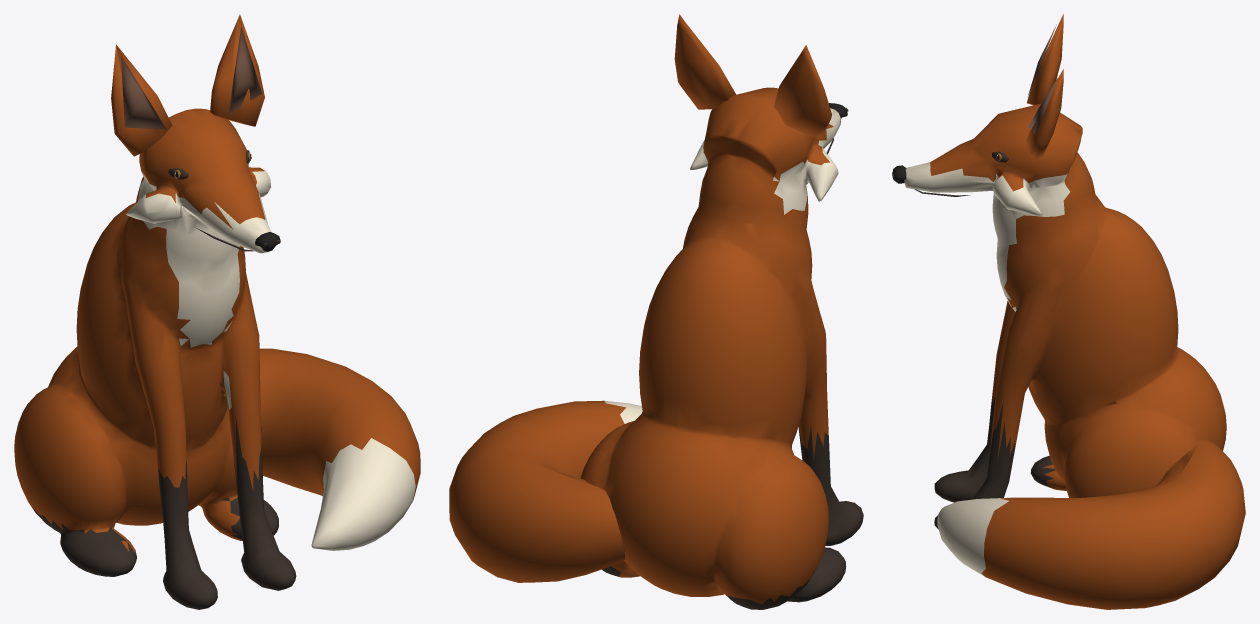
File: SM_Fox_LOD0.fbx
3 views of the same model, side by side, from view 1: azimuth 30°, elevation 25°; view 2: azimuth 150°, elevation 25°; view 3: azimuth 270°, elevation 25° (orthographic). The views are drawn at different scales.
Parts seen in each view (by area): view 1: SM_Fox_LOD0_Mesh; view 2: SM_Fox_LOD0_Mesh; view 3: SM_Fox_LOD0_Mesh.
Part boxes in pixels (box(x1,y1,x2,y2)): SM_Fox_LOD0_Mesh: box(14, 14, 420, 609); SM_Fox_LOD0_Mesh: box(449, 14, 863, 609); SM_Fox_LOD0_Mesh: box(892, 14, 1245, 609).
Size of the model in its own units: 64.12 by 61.74 by 92.84.
